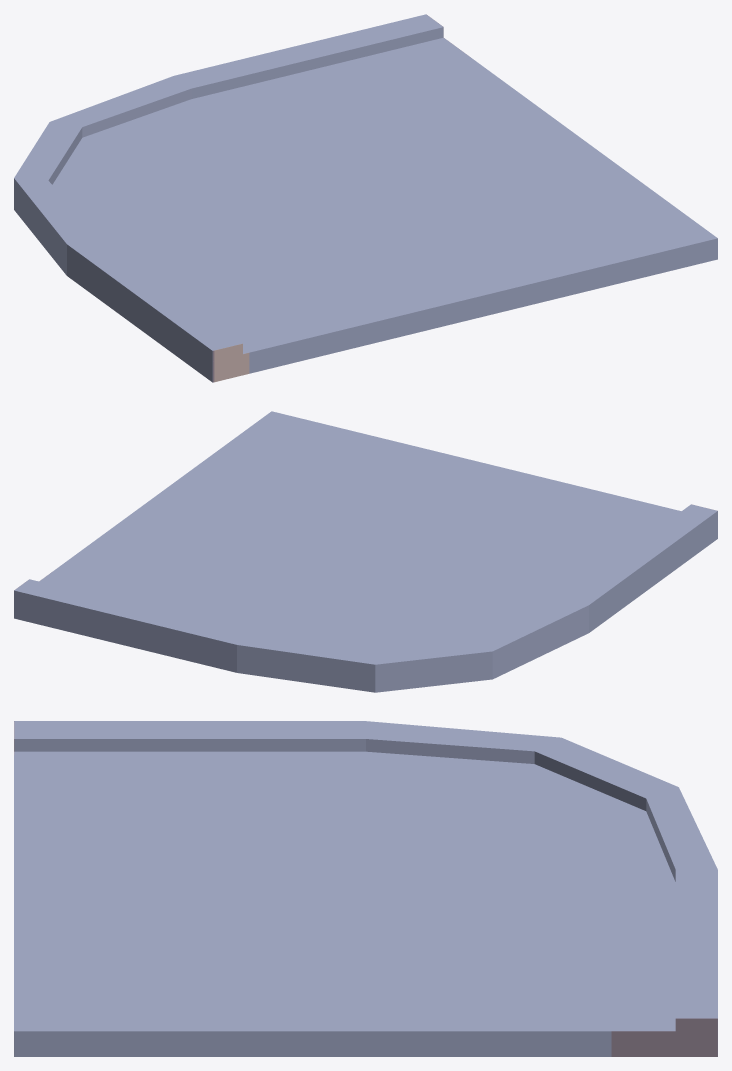
File: pavement_corner.FBX
The picture shows the model from 3 angles, top to bottom: view 1: azimuth 30°, elevation 25°; view 2: azimuth 150°, elevation 25°; view 3: azimuth 270°, elevation 25°; orthographic projection. The views are drawn at different scales.
Parts seen in each view (by area): view 1: pavement_corner; view 2: pavement_corner; view 3: pavement_corner.
Boxes of the visible parts, box(x1,y1,x2,y2) form: pavement_corner: box(14, 14, 717, 382); pavement_corner: box(14, 411, 717, 692); pavement_corner: box(14, 721, 717, 1056).
Size of the model in its own units: 200 by 12 by 200.
